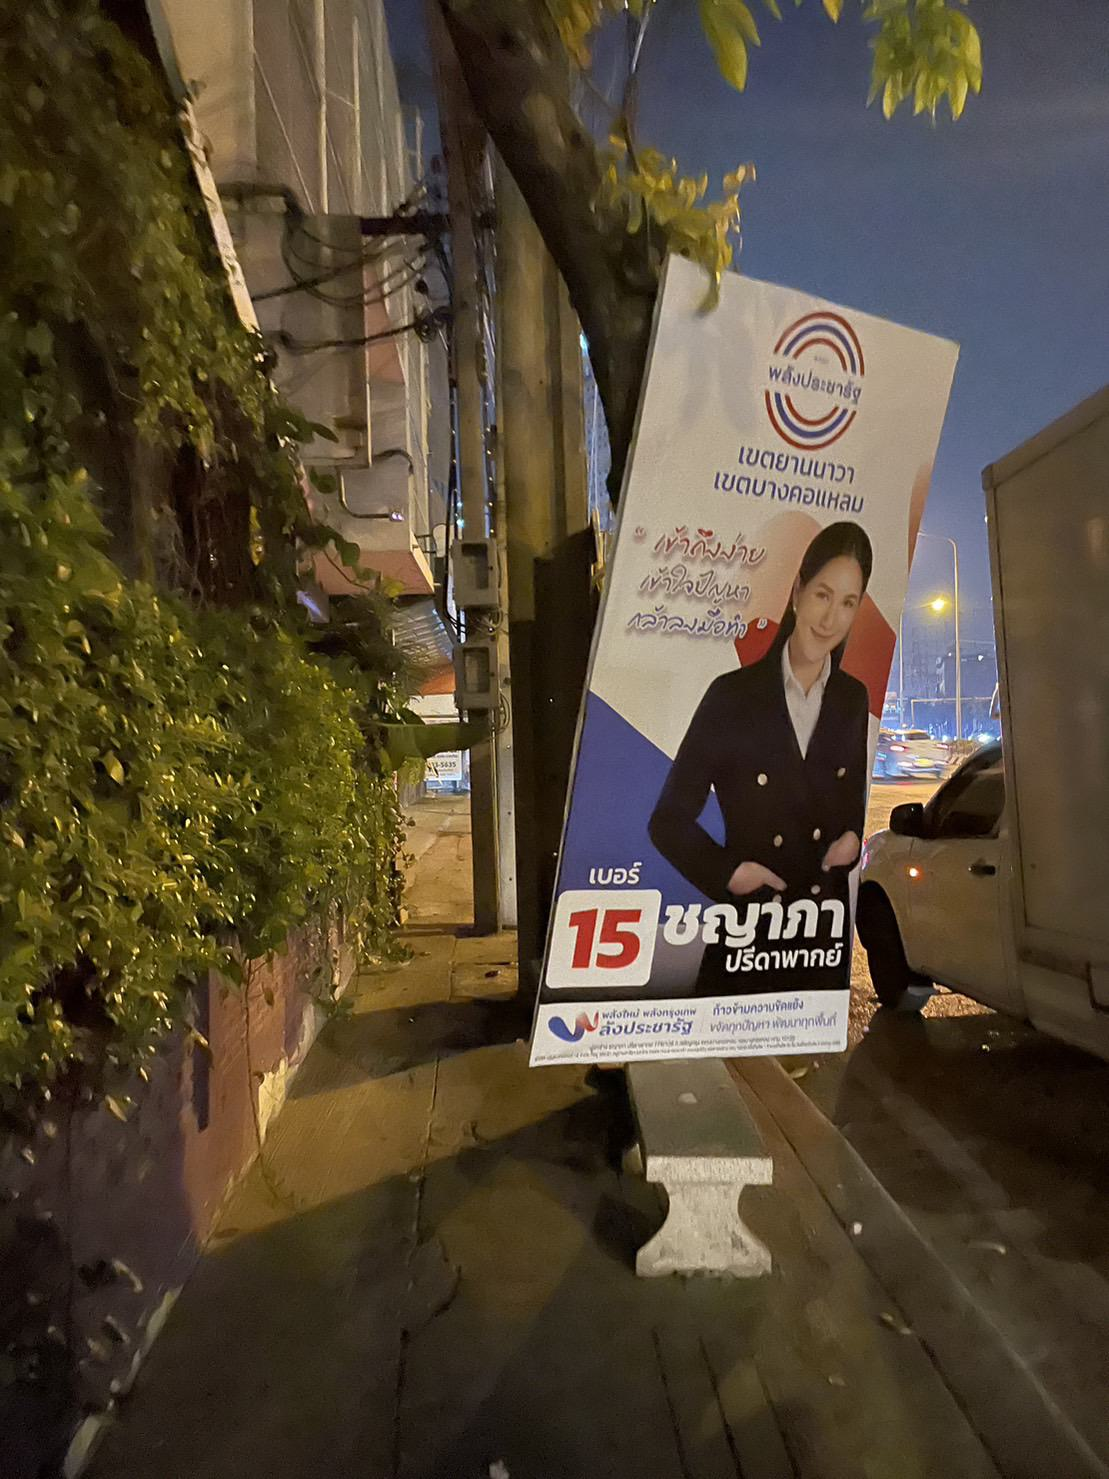Banner: (524, 259, 976, 1062)
